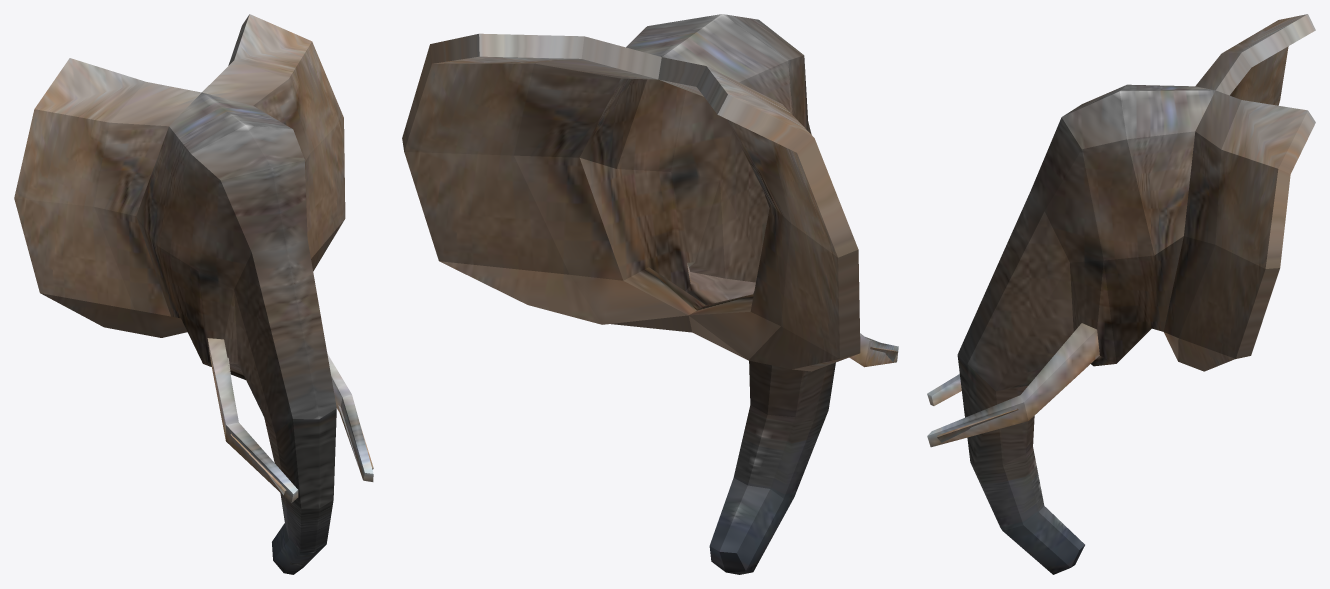
Rendered from MaskElephant.fbx.
3 renders of one model, left to right at view 1: azimuth 30°, elevation 25°; view 2: azimuth 150°, elevation 25°; view 3: azimuth 270°, elevation 25°, orthographic. The views are drawn at different scales.
Parts seen in each view (by area): view 1: ElephantMask; view 2: ElephantMask; view 3: ElephantMask.
Boxes of the visible parts, <box> form: ElephantMask: <box>14,14,373,574</box>; ElephantMask: <box>402,14,898,574</box>; ElephantMask: <box>927,14,1315,574</box>.
Bounding box in the file's own units: 0.2285 × 0.3035 × 0.2126.
